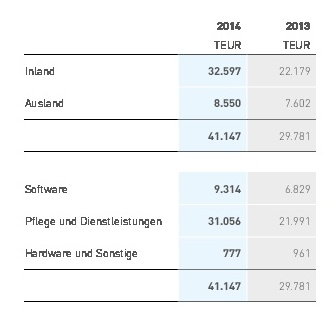table: (0, 0, 329, 315)
